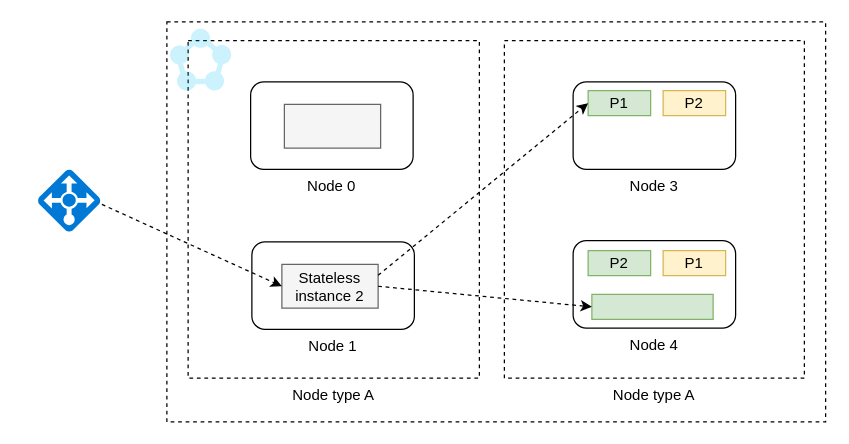
Some shapes in this 849 by 444 pixel diagram are drawn without their labels. The shapes that lost their labels are listed below. From the top down, each one's centre as x and y in pixels, then its label:
At point (332, 125): "Stateless instance 1".
At point (69, 200): "Load balancer".
At point (652, 306): "Naming service".
